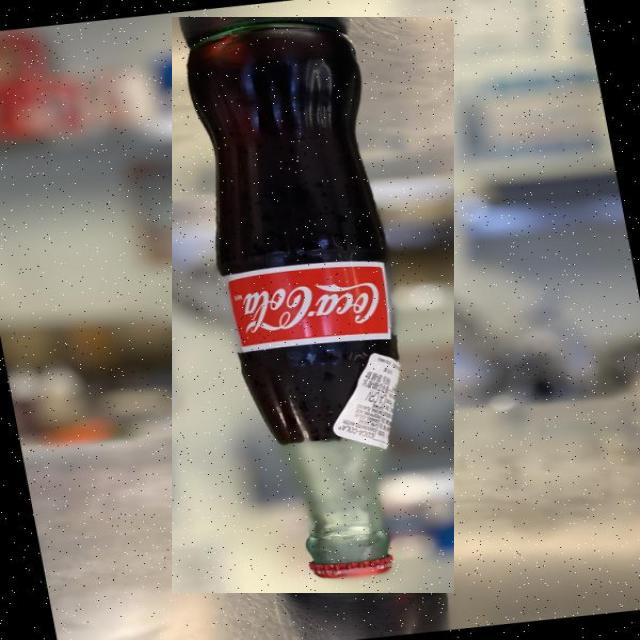coca-cola: (172, 18, 454, 594)
